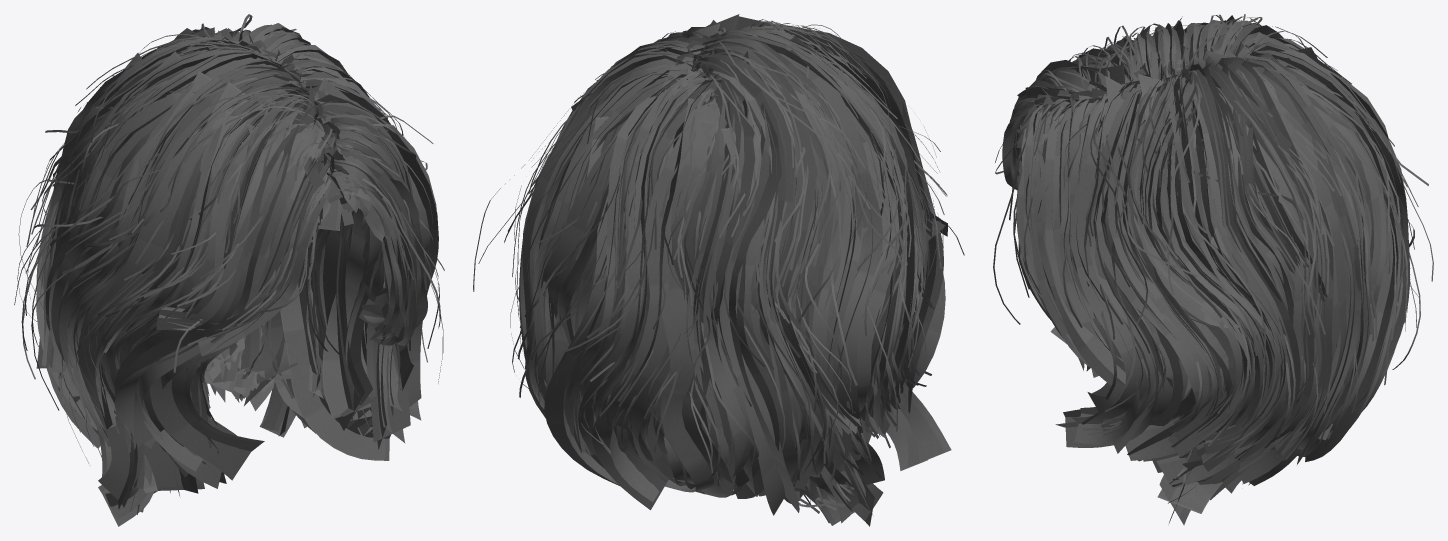
The model's file is Hair_M_BobMessy_CardsMesh_Group0_LOD0.FBX.
The picture shows the model from 3 angles, left to right: view 1: azimuth 30°, elevation 25°; view 2: azimuth 150°, elevation 25°; view 3: azimuth 270°, elevation 25°; orthographic projection. The views are drawn at different scales.
Visible parts, largest first — view 1: Hair_M_BobMessy_CardsMesh_Group0_LOD0; view 2: Hair_M_BobMessy_CardsMesh_Group0_LOD0; view 3: Hair_M_BobMessy_CardsMesh_Group0_LOD0.
Boxes of the visible parts, x1,y1,x2,y2 form: Hair_M_BobMessy_CardsMesh_Group0_LOD0: [14, 14, 444, 526]; Hair_M_BobMessy_CardsMesh_Group0_LOD0: [473, 14, 964, 526]; Hair_M_BobMessy_CardsMesh_Group0_LOD0: [993, 14, 1433, 525].
Size of the model in its own units: 25.32 by 26.46 by 29.08.
Materials: 1 (1 with a texture image).
